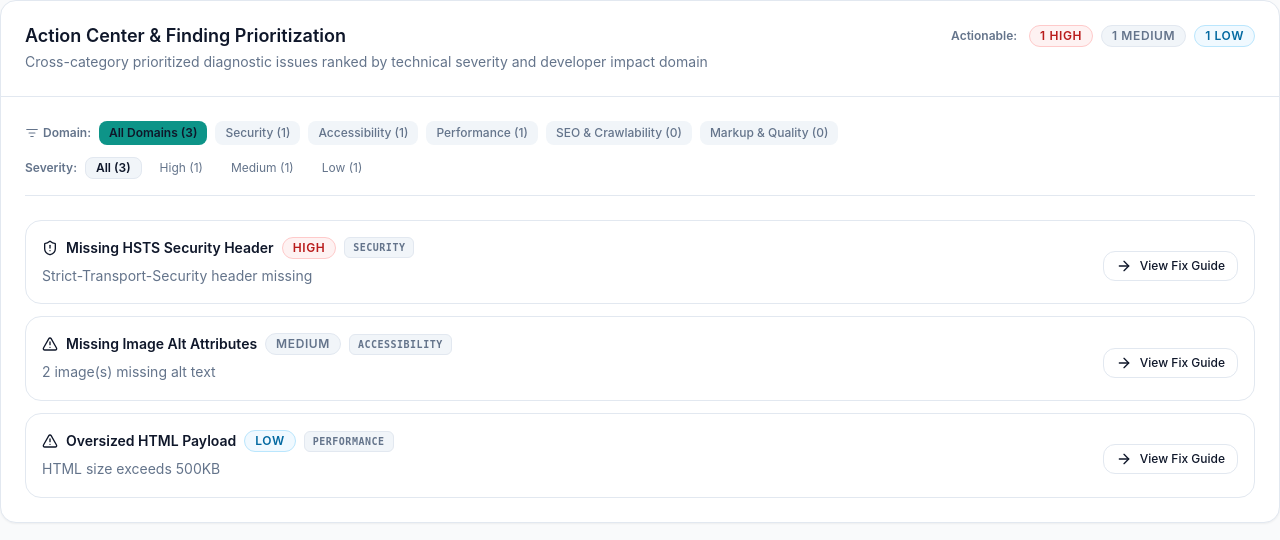
Test: ActionCenterCard Component Suite (M8) › displays empty state when no action items match active filter
This screenshot has width=1280, height=540.
Click SEO domain tab which has 0 items
Click the button "SEO & Crawlability (0)": (619, 132) [546,120,692,144]
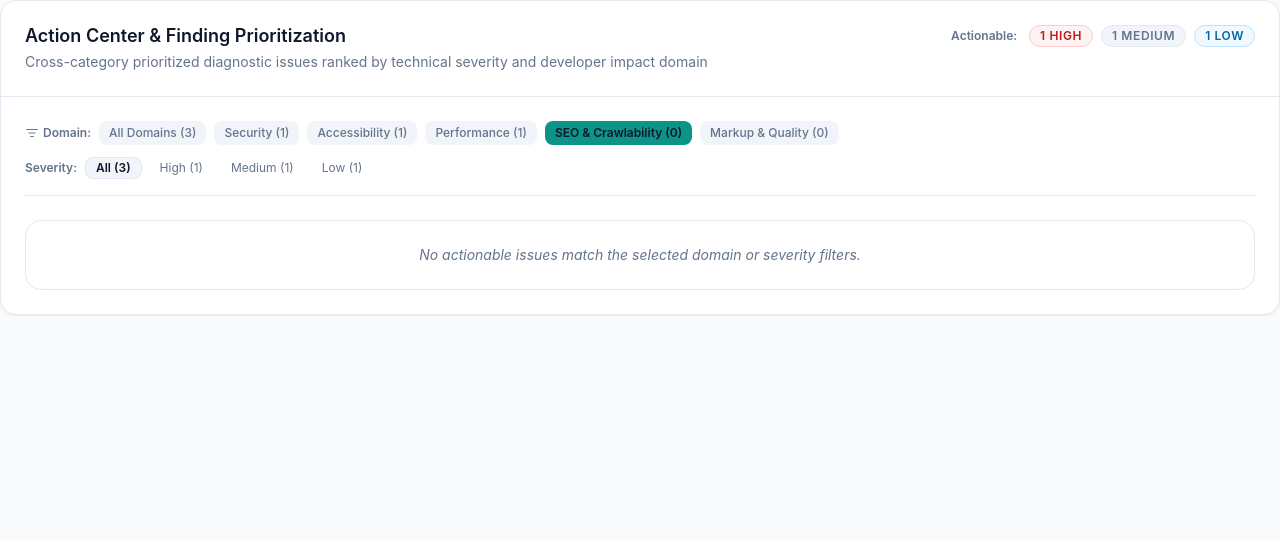
Result: the text "No actionable issues match the selected domain or severity filters." is shown at [25,220,1255,290]
